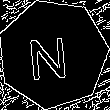N_N: (31, 27, 76, 81)
